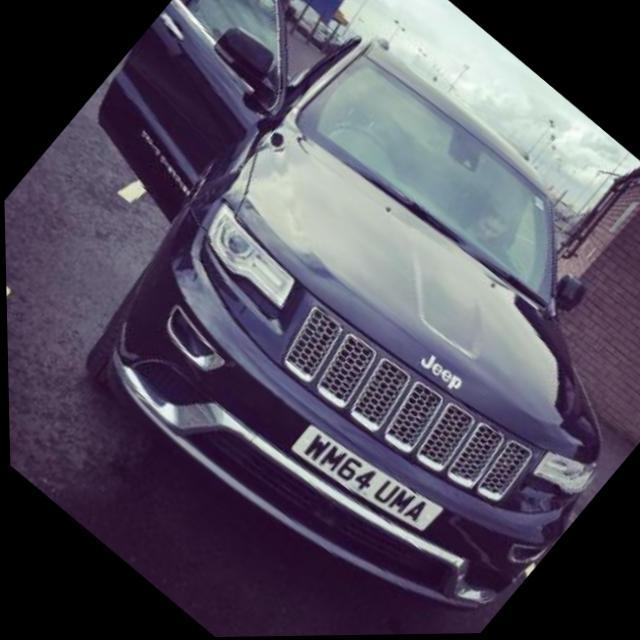license_plate: (287, 408, 442, 554)
